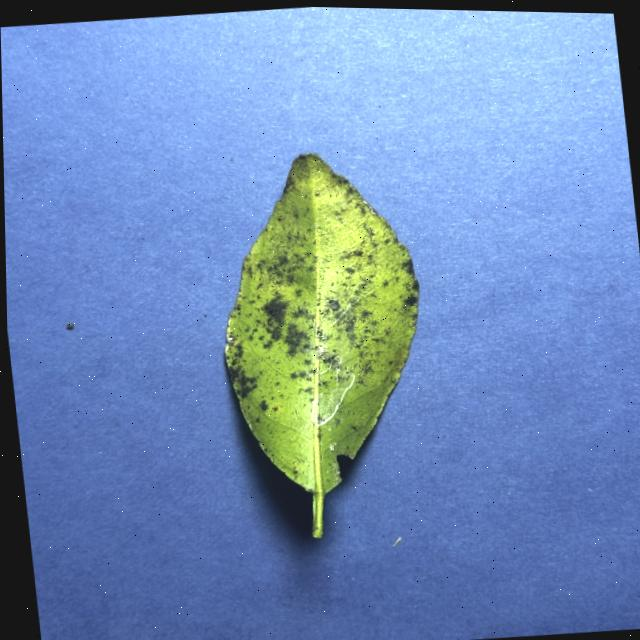sooty_mold: (225, 154, 418, 536)
